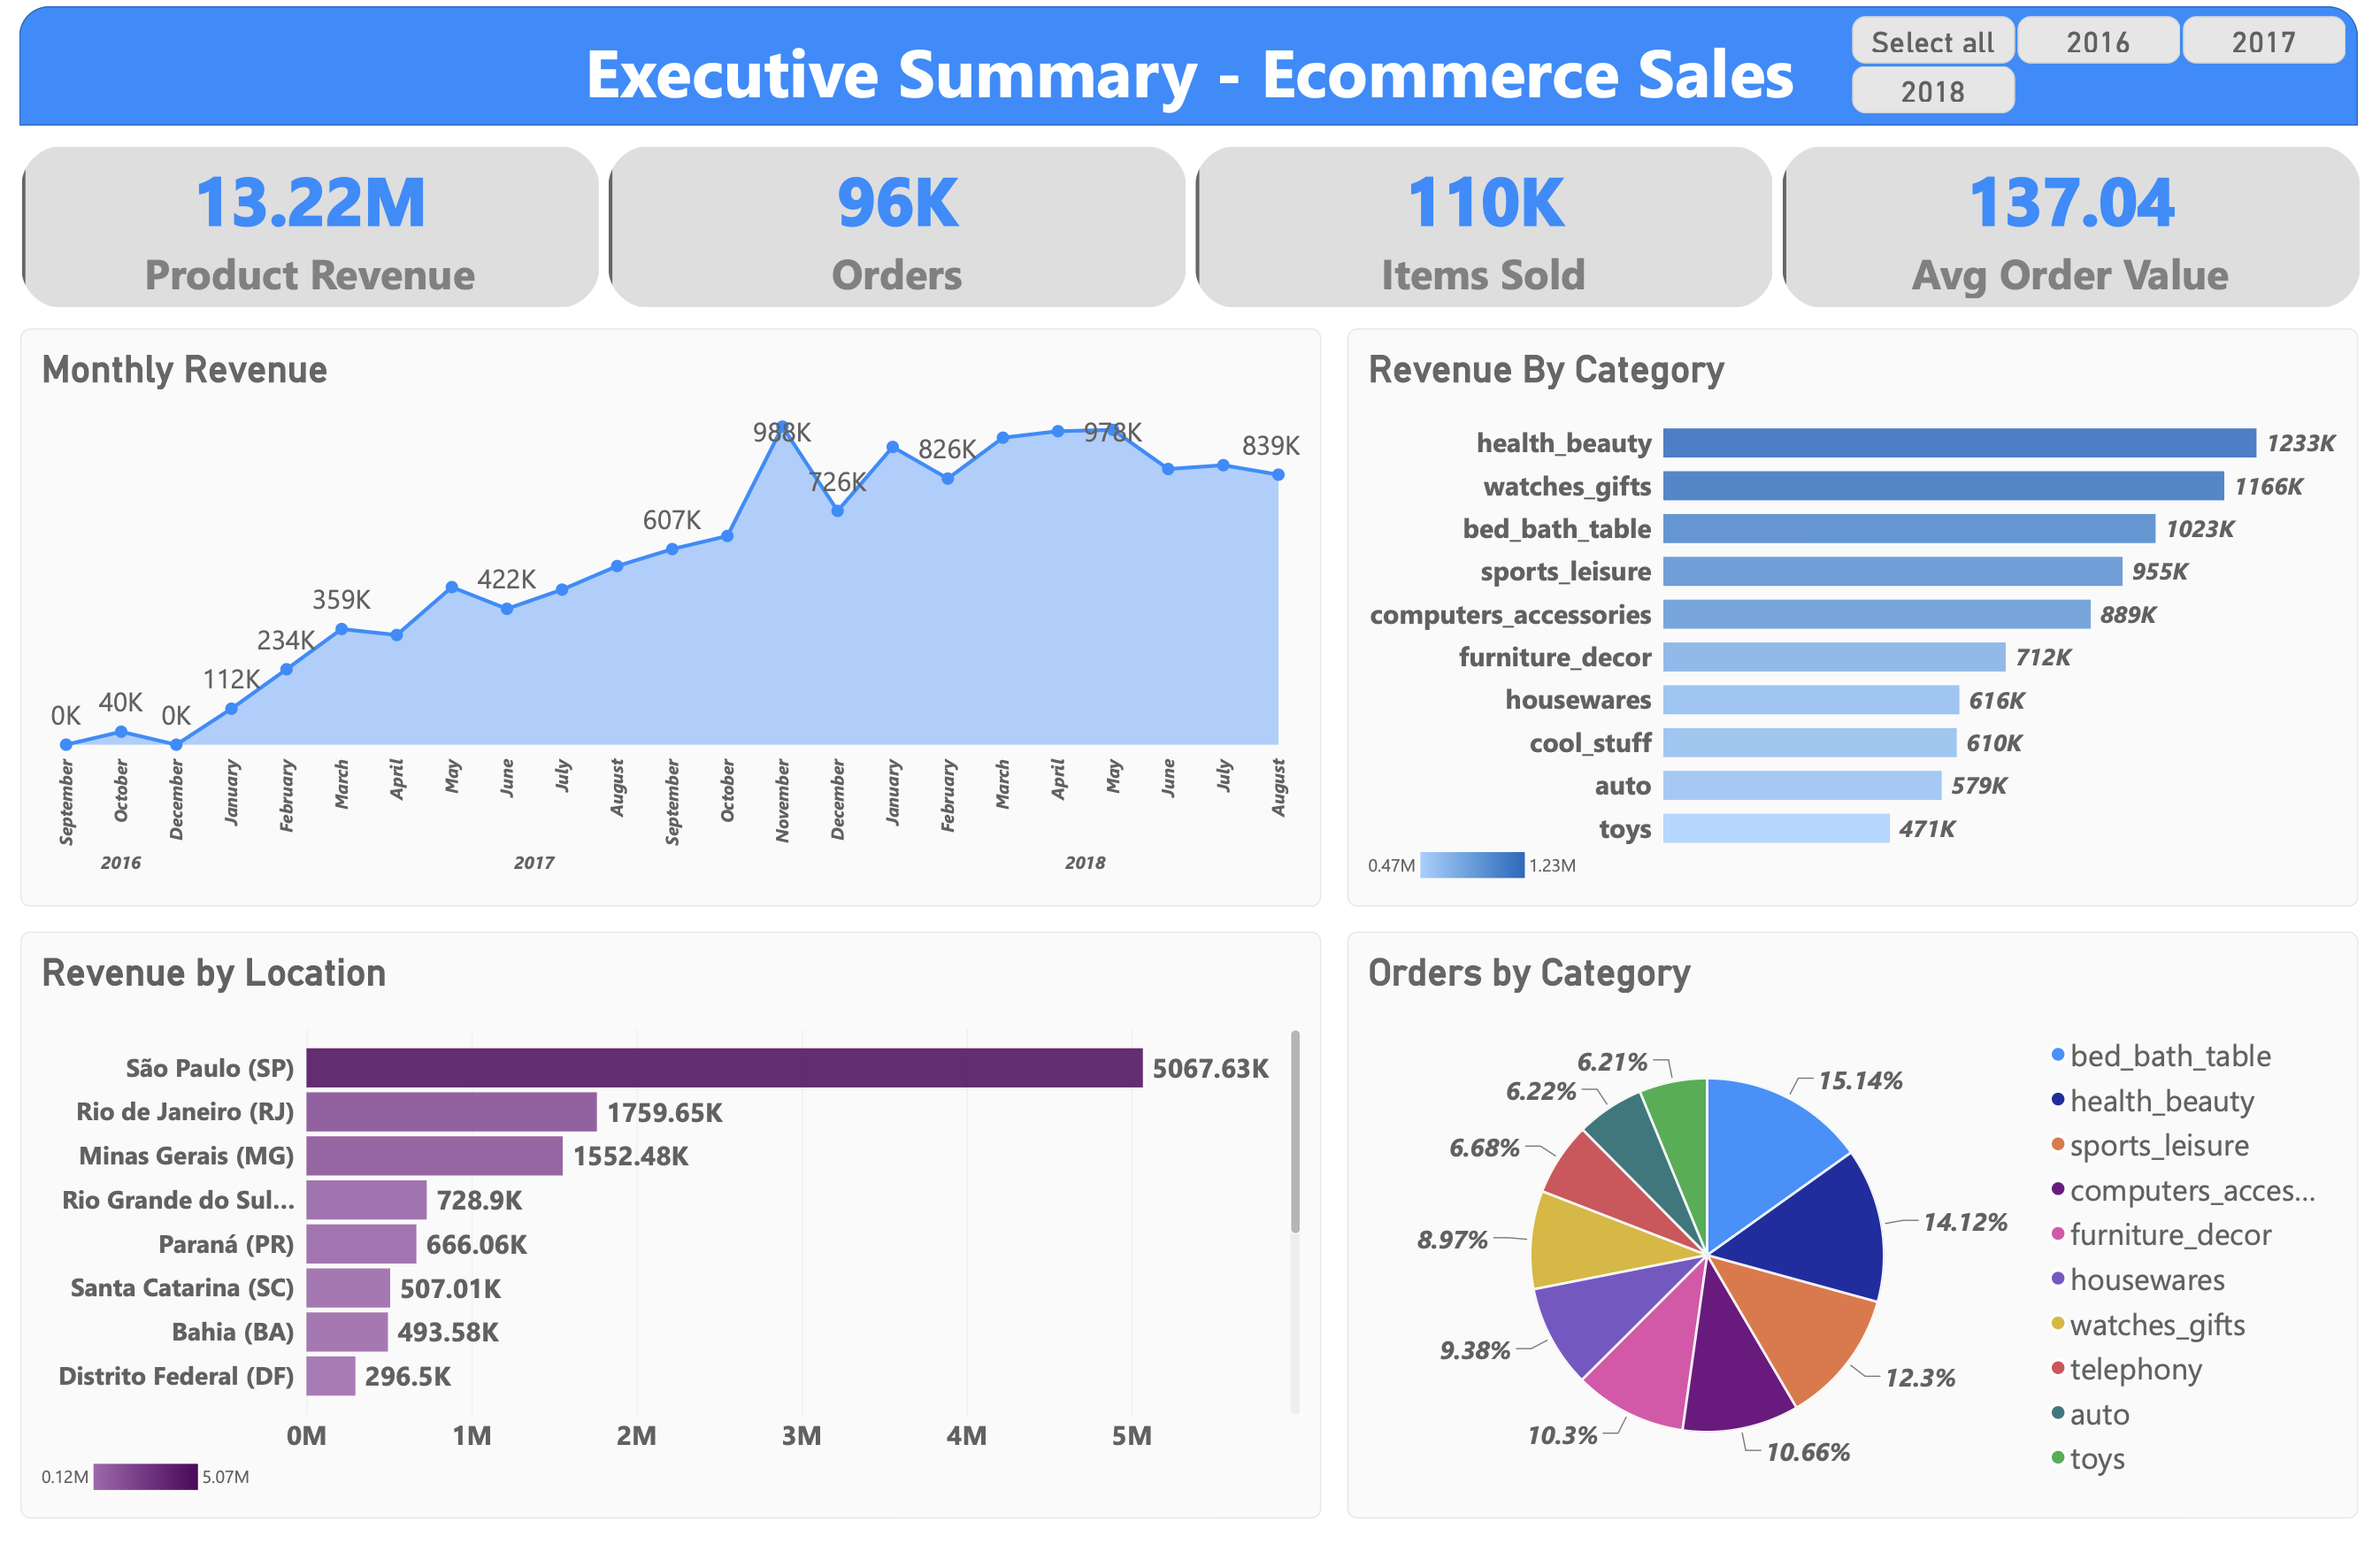

Layout of this report page (visuals, bound fields, positions):
{"tool":"powerbi","page":{"name":"Executive Summary","canvas":[1920,1250],"ordinal":0},"visuals":[{"type":"cardVisual","fields":{"Data":["FactSales.Product Revenue","FactSales.Orders","FactSales.Items Sold","FactSales.Avg Order Value"]},"box":[20.8,112.6,1880.6,129.3],"z":0},{"type":"shape","box":[18.8,0,1880.6,95.9],"z":1000},{"type":"lineChart","title":"Monthly Revenue","fields":{"Category":["DimDate.FullDate.Variation.Date Hierarchy.Year","DimDate.FullDate.Variation.Date Hierarchy.Month"],"Y":["FactSales.Product Revenue"]},"box":[20.3,259,1046.3,464.8],"z":2000},{"type":"clusteredBarChart","title":"Revenue By Category","fields":{"Category":["DimProduct.CategoryNameEnglish"],"Y":["FactSales.Product Revenue"]},"box":[1087,259,812.7,464.8],"z":3000},{"type":"textbox","box":[454.5,14.6,1011.2,81.3],"z":4000},{"type":"clusteredBarChart","title":"Revenue by Location","fields":{"Category":["DimLocation.State Display"],"Y":["FactSales.Product Revenue"]},"box":[20.3,744.1,1046.3,472.4],"z":5000},{"type":"advancedSlicerVisual","fields":{"Values":["DimDate.CalendarYear"]},"box":[1492.8,8.3,398.2,79.2],"z":6000},{"type":"pieChart","title":"Orders by Category","fields":{"Category":["DimProduct.CategoryNameEnglish"],"Y":["FactSales.Orders"]},"box":[1087,744.1,812.7,472.4],"z":7000}]}

Visuals, with their boxes in screenshot pixels (x1, y1, x2, y2), scaled from the page's 1920x1250 canvas onto the 2380x1552 screenshot:
cardVisual - FactSales.Product Revenue x FactSales.Orders: [left=26, top=140, right=2357, bottom=300]
shape: [left=23, top=0, right=2354, bottom=119]
"Monthly Revenue" lineChart: [left=25, top=321, right=1322, bottom=899]
"Revenue By Category" clusteredBarChart: [left=1347, top=321, right=2355, bottom=899]
textbox: [left=564, top=18, right=1817, bottom=119]
"Revenue by Location" clusteredBarChart: [left=25, top=924, right=1322, bottom=1510]
advancedSlicerVisual - DimDate.CalendarYear: [left=1850, top=11, right=2344, bottom=109]
"Orders by Category" pieChart: [left=1347, top=924, right=2355, bottom=1510]
